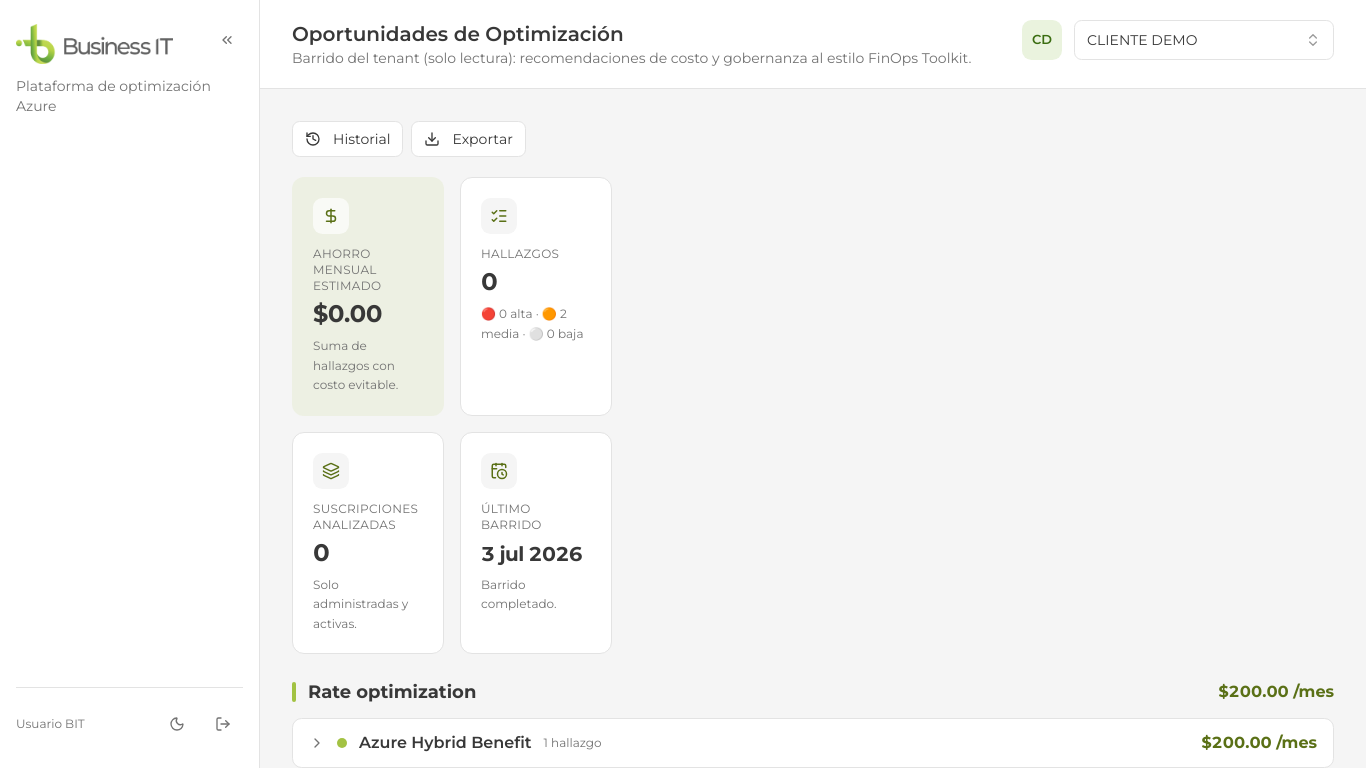
el botón Exportar abre el diálogo de estados
Click the button "Exportar": (469, 139) [412,121,526,157]
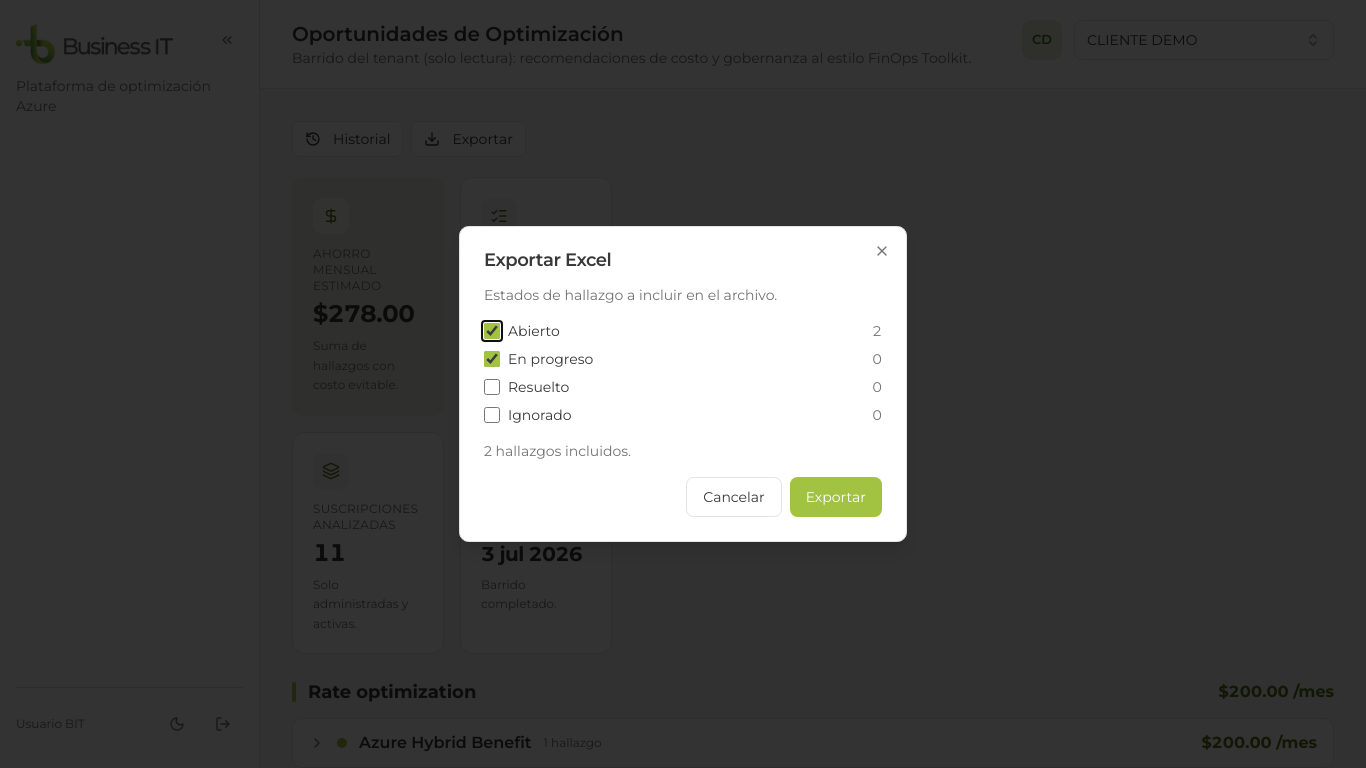
Expected: the heading "Exportar Excel" is shown, [484,249,611,271]
Expected: the text "2 hallazgos incluidos." is shown, [484,442,631,460]
